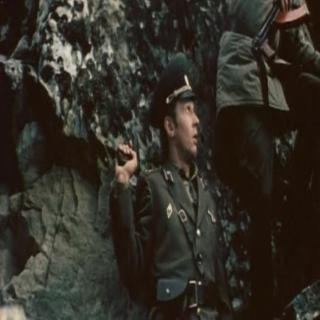gun: (114, 114, 145, 186)
